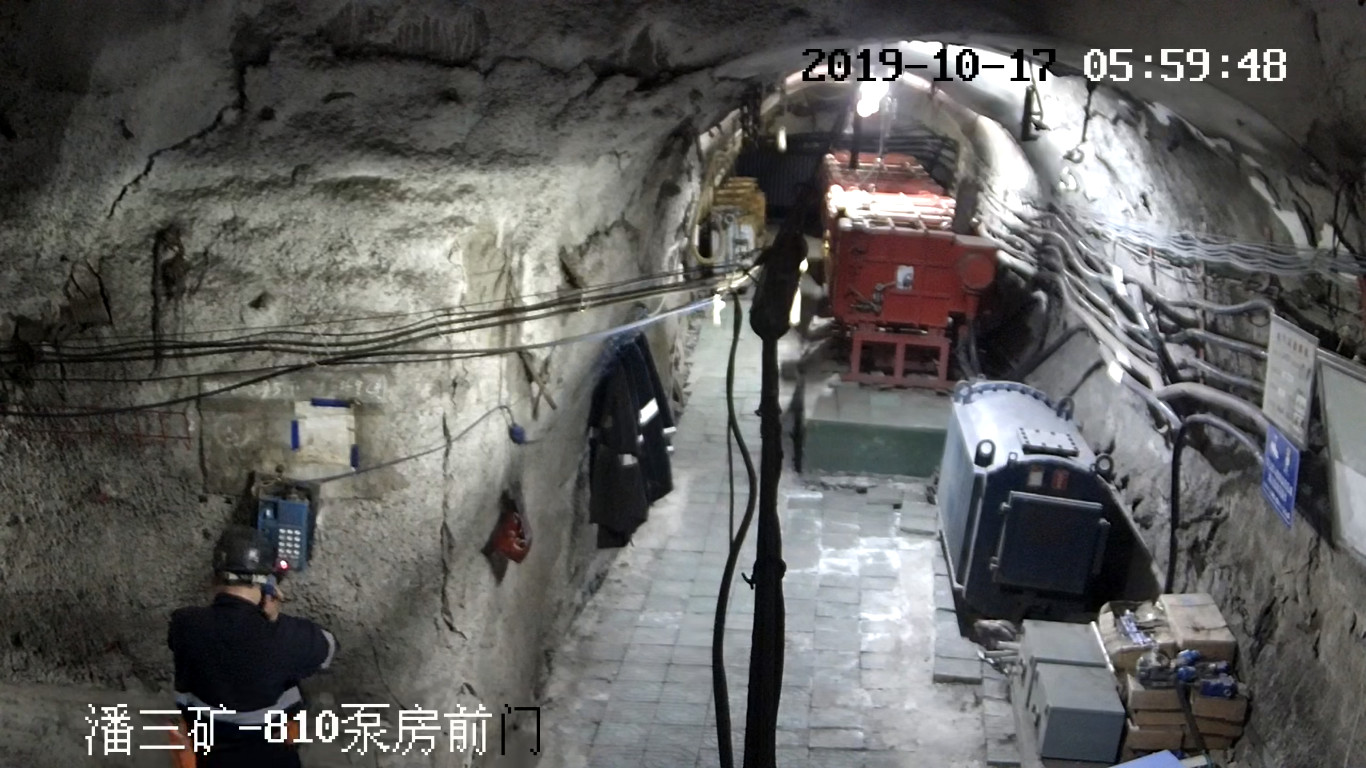helmet: (212, 526, 276, 575)
